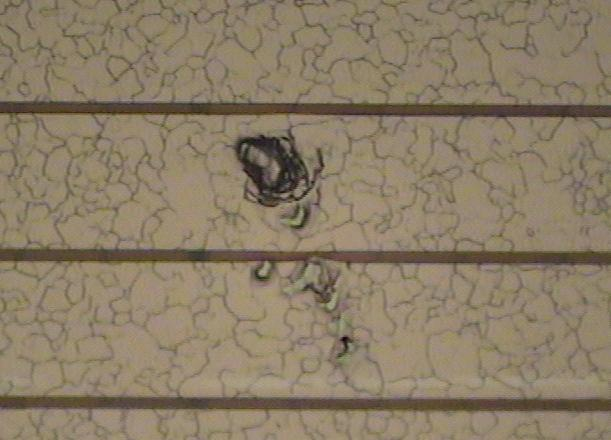SCRATCH: (235, 132, 356, 367)
